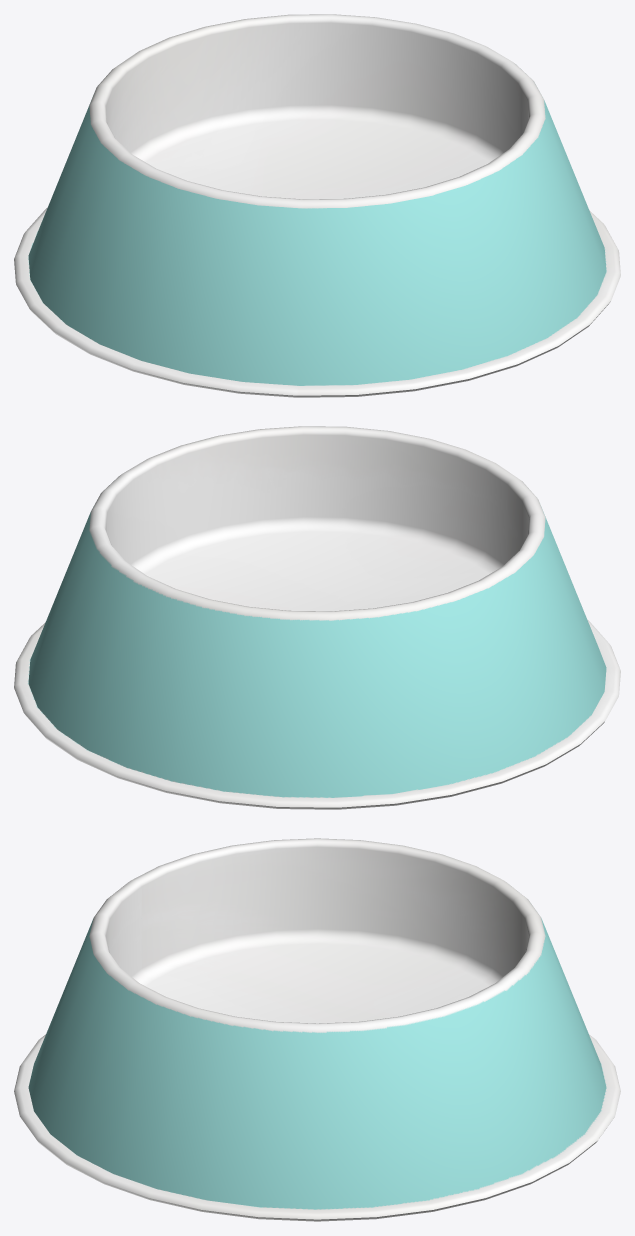
The model's file is DogBowl.fbx.
3 renders of one model, top to bottom at view 1: azimuth 30°, elevation 25°; view 2: azimuth 150°, elevation 25°; view 3: azimuth 270°, elevation 25°, orthographic.
Visible parts, largest first — view 1: Cylinder; view 2: Cylinder; view 3: Cylinder.
Part boxes in pixels (x1,y1,x2,y2): Cylinder: [14, 14, 620, 397]; Cylinder: [14, 426, 620, 809]; Cylinder: [14, 838, 620, 1221].
Bounding box in the file's own units: 20.21 × 6 × 20.21.
